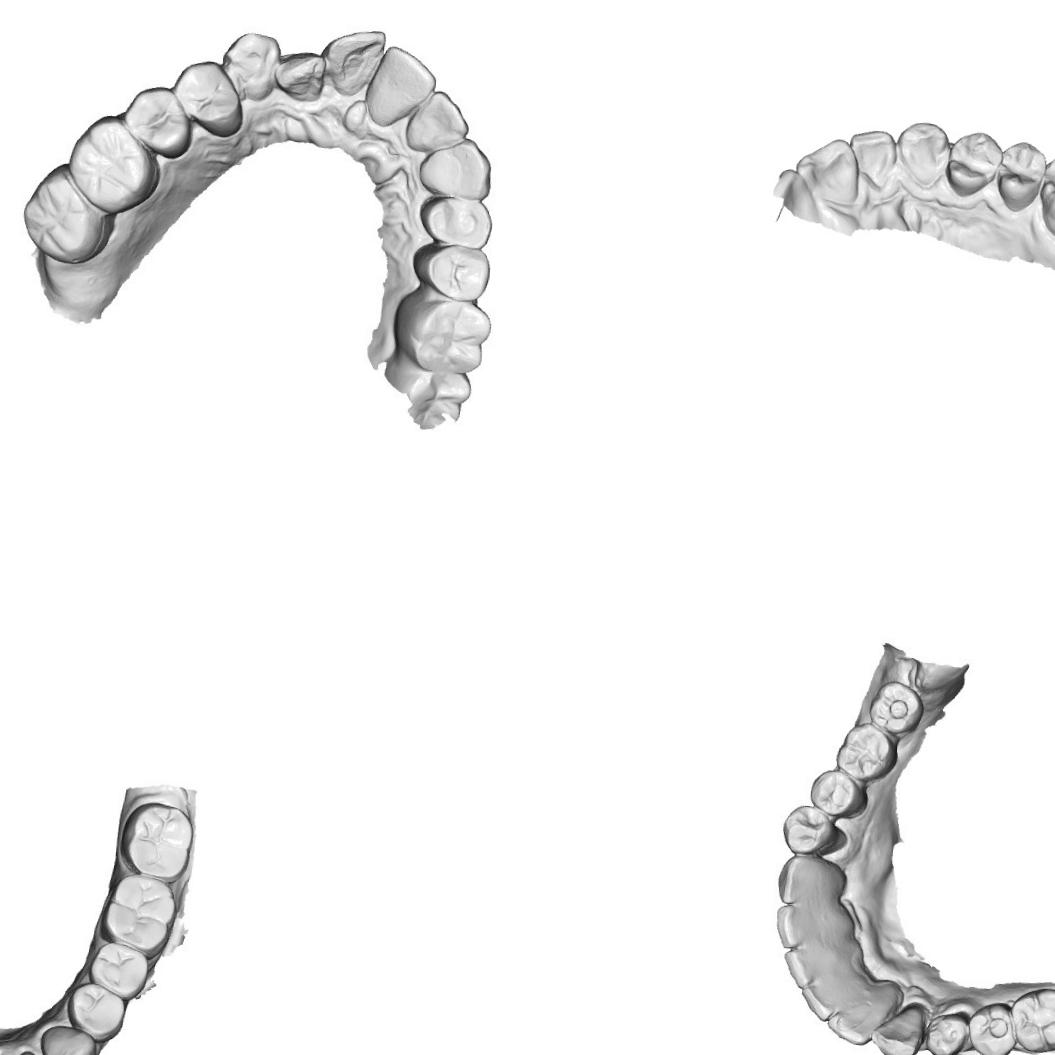canine: (415, 134, 495, 202), (218, 27, 283, 107), (893, 118, 952, 190), (772, 853, 847, 909), (869, 1002, 925, 1055), (34, 1020, 98, 1055)
incisor: (364, 40, 441, 128), (399, 83, 473, 156), (792, 134, 862, 208), (318, 25, 386, 101), (271, 44, 326, 106), (844, 124, 896, 187), (778, 899, 833, 953), (827, 1001, 882, 1049), (784, 943, 830, 986), (802, 979, 848, 1019)
molar: (59, 110, 167, 215), (15, 161, 110, 268), (388, 291, 493, 380), (100, 872, 178, 960), (116, 798, 194, 881), (836, 720, 900, 787), (864, 673, 924, 742), (1003, 981, 1055, 1055), (1033, 151, 1055, 242)
premolar: (168, 54, 247, 140), (409, 238, 498, 306), (120, 83, 194, 160), (416, 195, 496, 250), (991, 138, 1048, 213), (943, 127, 1002, 199), (86, 938, 154, 1000), (64, 979, 131, 1041), (964, 999, 1018, 1055), (782, 806, 840, 854), (924, 1003, 976, 1055), (812, 768, 864, 816)
